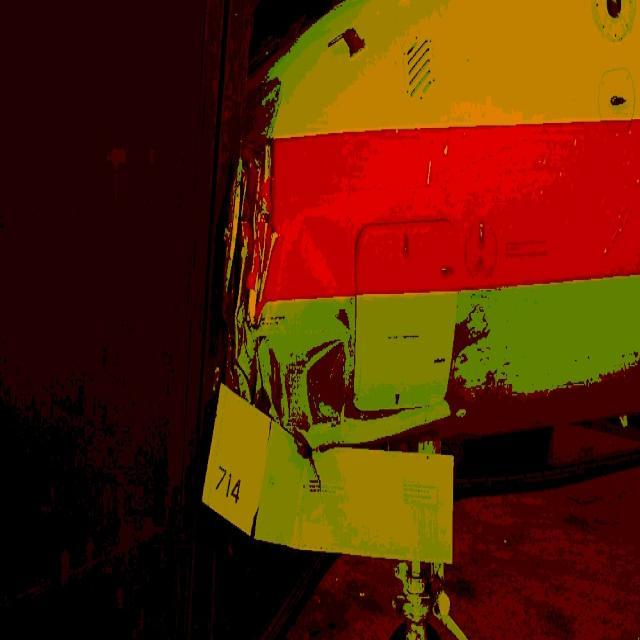dent: (286, 220, 354, 440)
